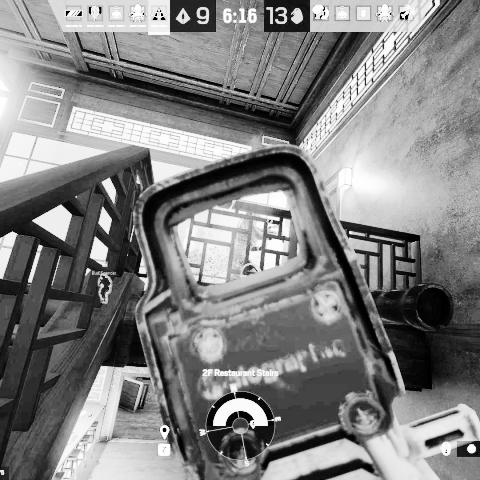Character: (231, 203, 279, 280)
Friend_label: (90, 261, 118, 276)
Head: (247, 207, 262, 222)
